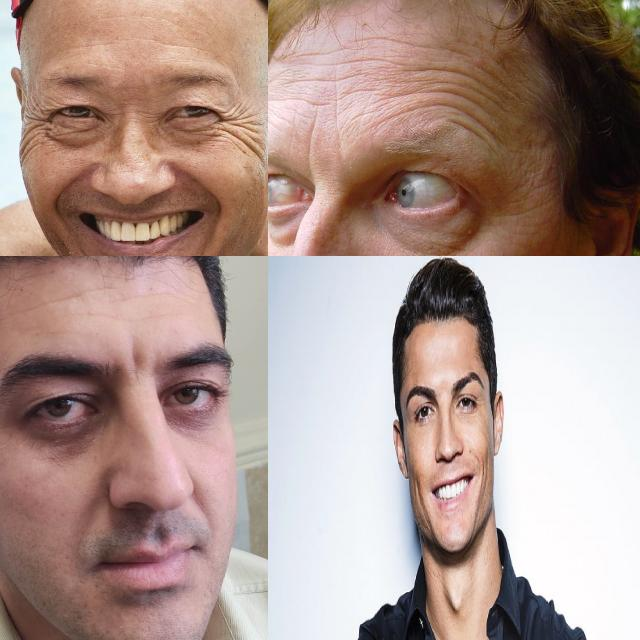crows_feet: (22, 103, 50, 153), (221, 101, 253, 139)
forehead: (417, 92, 473, 126), (45, 282, 111, 310), (416, 63, 486, 89), (268, 89, 330, 117), (371, 28, 425, 56), (453, 117, 499, 145), (284, 70, 346, 90), (352, 80, 383, 114), (298, 46, 346, 64), (123, 282, 163, 302)
frown_line: (296, 128, 318, 164), (124, 350, 148, 380)
gummy_smile: (188, 165, 228, 209), (50, 164, 82, 214)
masseter: (410, 473, 424, 504), (480, 452, 490, 486)
